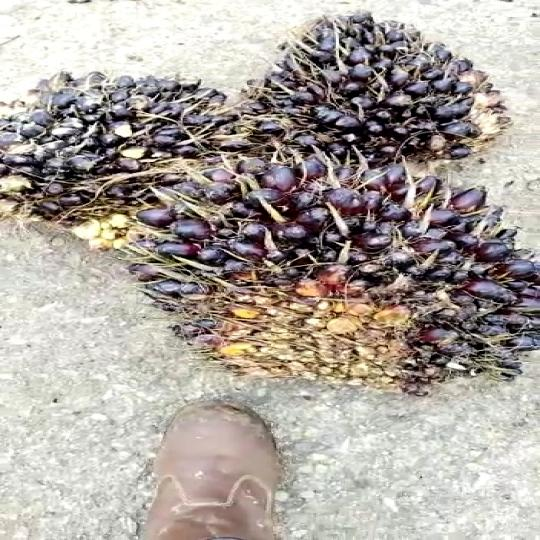mentah: (115, 155, 540, 404), (0, 52, 244, 246), (228, 6, 512, 166)
